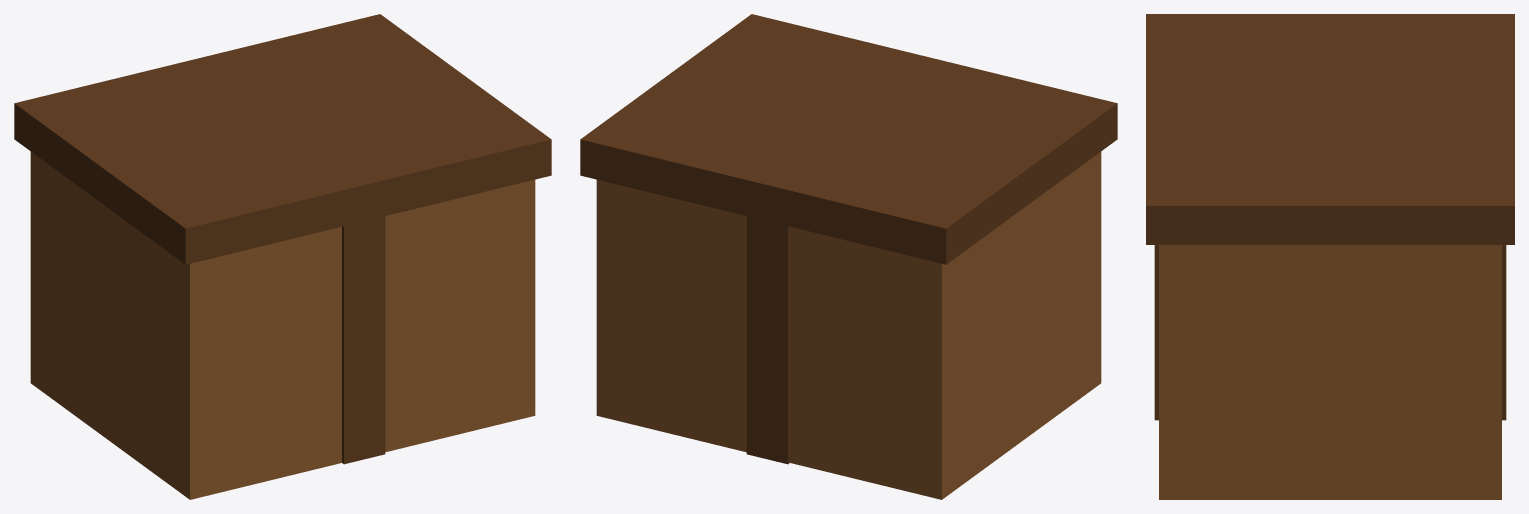
File: crate.glb
The picture shows the model from 3 angles, left to right: view 1: azimuth 30°, elevation 25°; view 2: azimuth 150°, elevation 25°; view 3: azimuth 270°, elevation 25°; orthographic projection. The views are drawn at different scales.
Parts seen in each view (by area): view 1: crate; view 2: crate; view 3: crate.
Boxes of the visible parts, <box> form: crate: <box>14,14,551,499</box>; crate: <box>580,14,1117,499</box>; crate: <box>1146,14,1514,499</box>.
Size of the model in its own units: 1.06 by 0.77 by 0.86.
